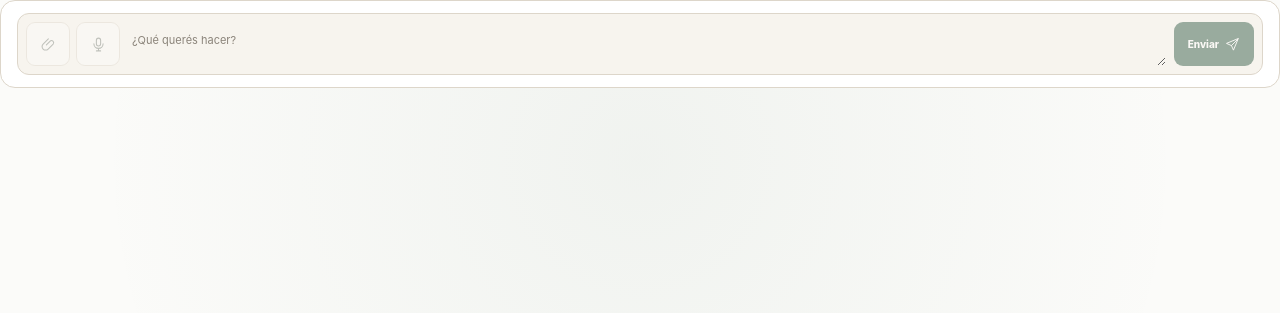
Test: Conversation › creates a conversation lazily and sends text with one idempotency key
This screenshot has width=1280, height=313.
Type "Resume mis prioridades" into the text box named "Mensaje para Hermes" at (647, 44), box [128, 22, 1166, 66]
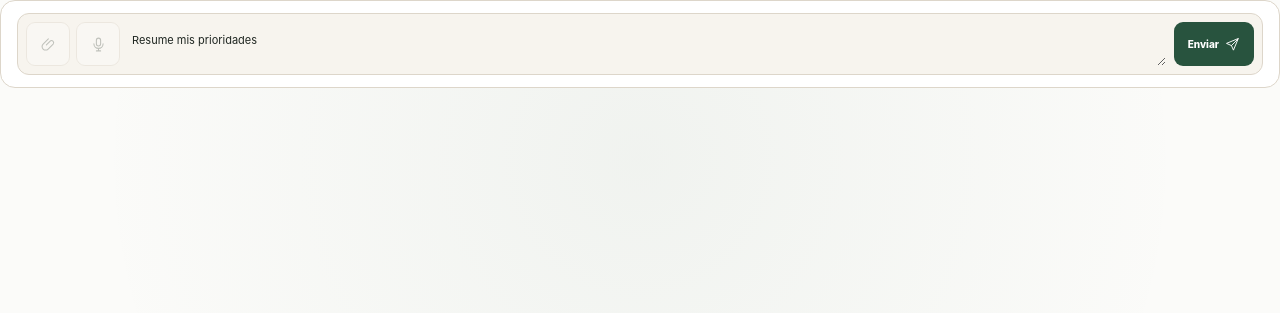
Submit the form named "Conversación con Hermes", box [17, 13, 1263, 75]
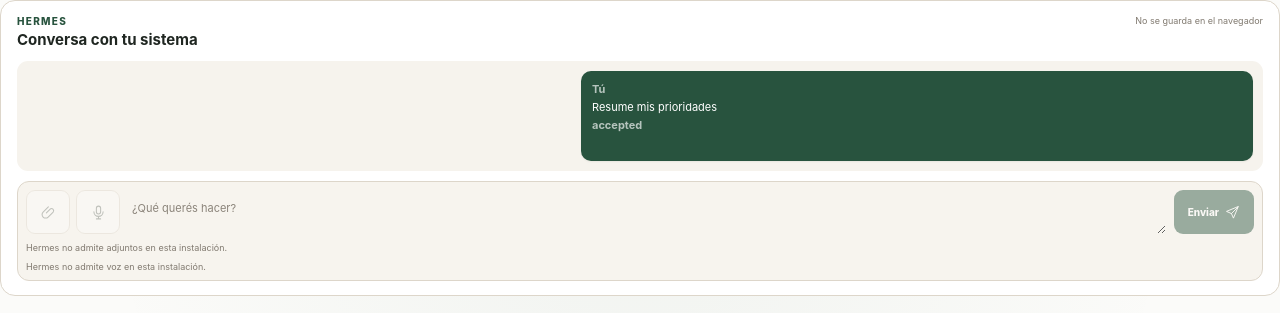
Now the text "Resume mis prioridades" is shown, box [592, 100, 717, 114]
